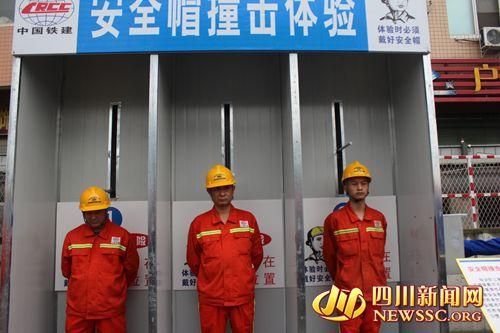helmet: (204, 166, 239, 192), (79, 187, 112, 213), (342, 163, 375, 185)
